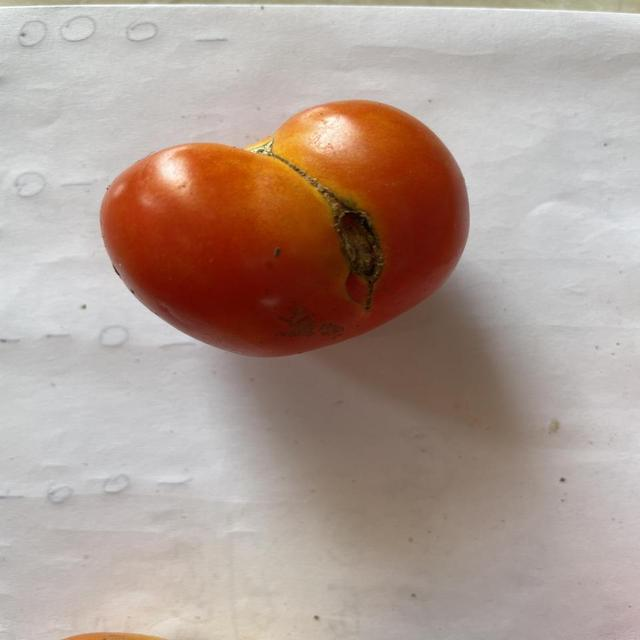Cracking Fruit: (218, 131, 258, 211)
